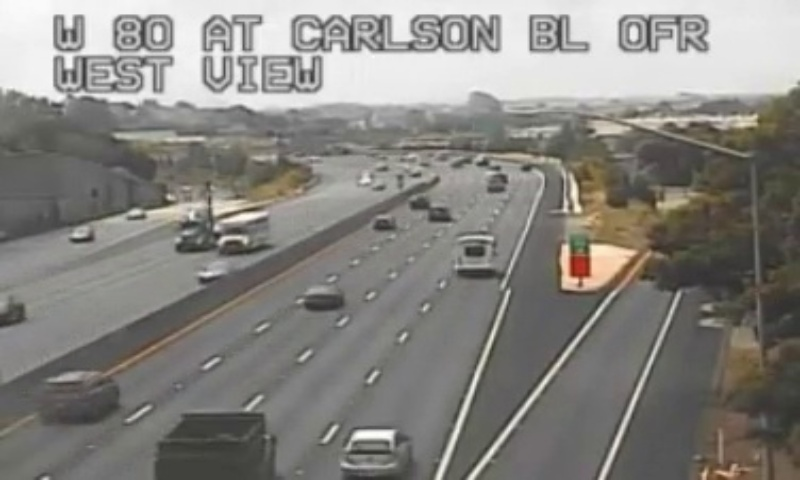bus: (451, 232, 497, 274)
car: (38, 371, 119, 416), (340, 427, 410, 474), (302, 283, 344, 308)
